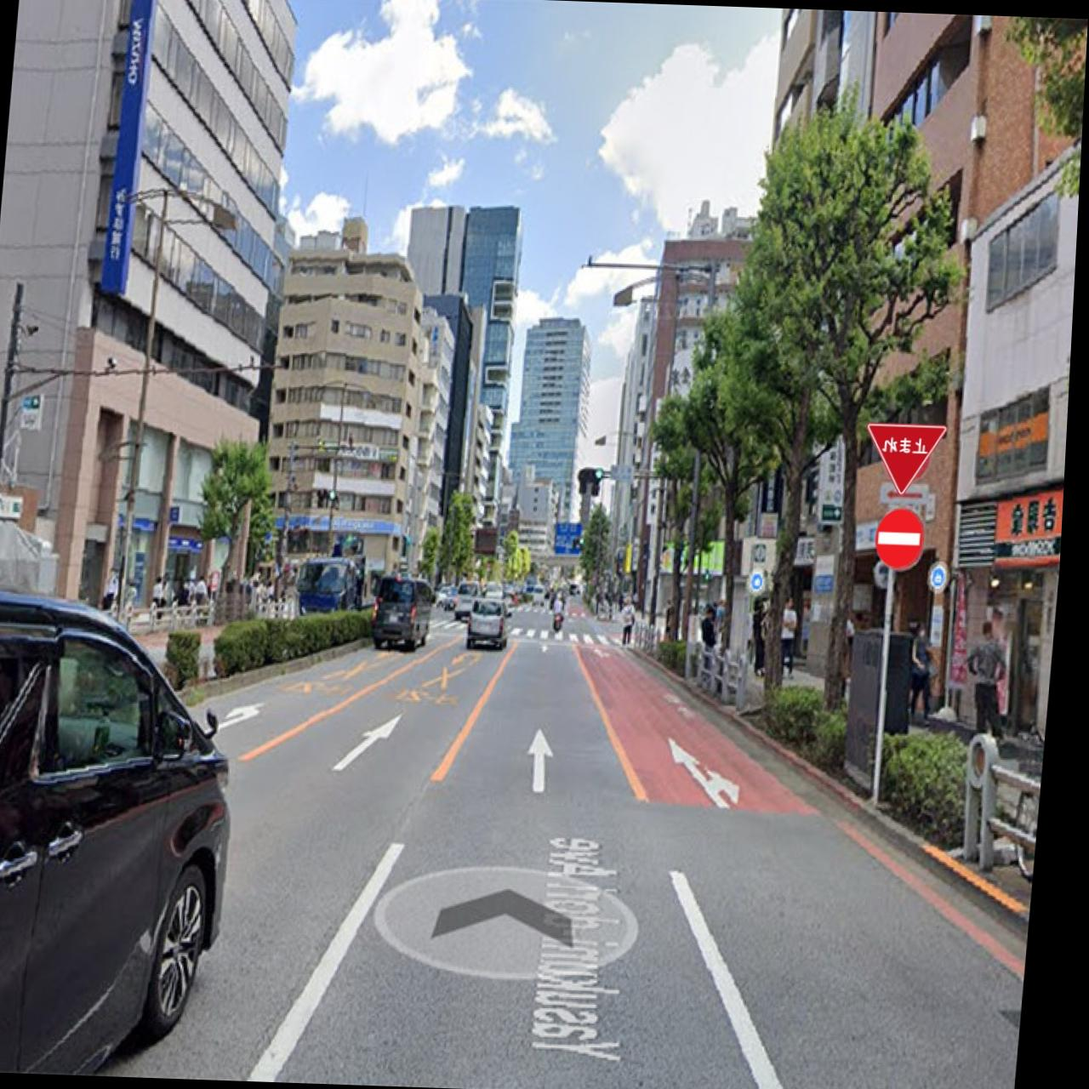barrier: (868, 506, 928, 573)
